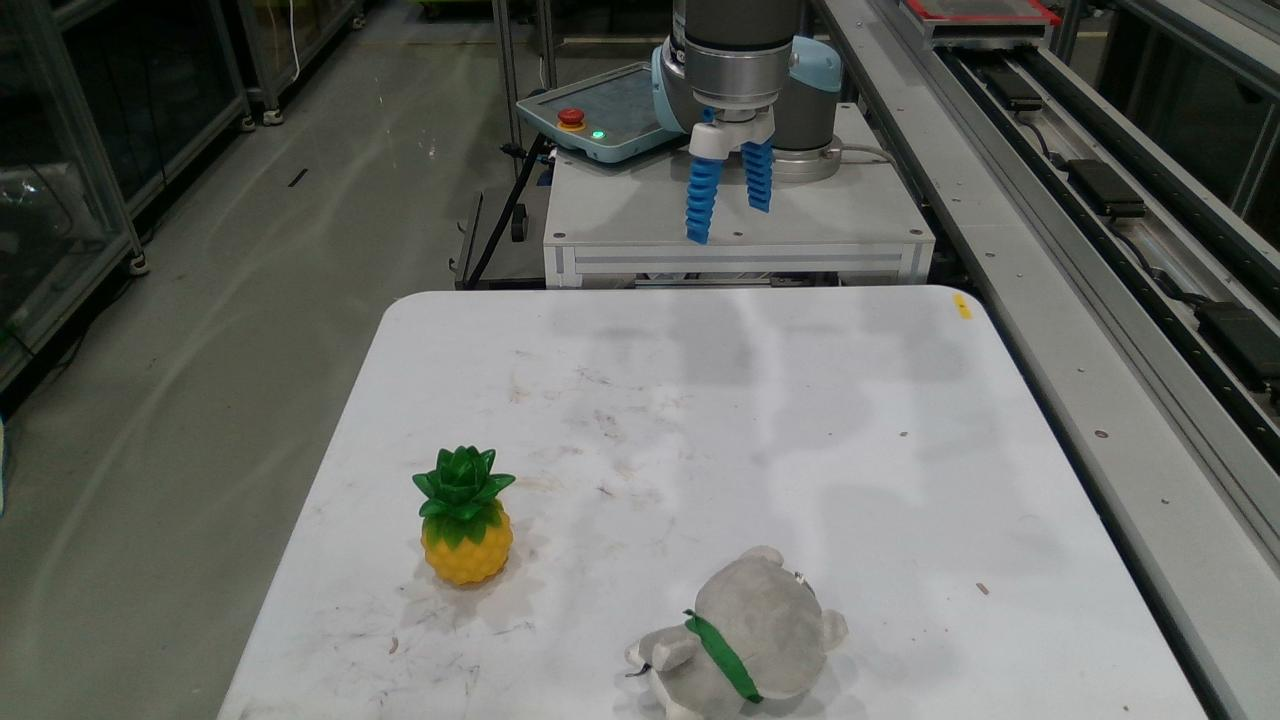UR5: (651, 0, 843, 183)
gripper_left: (686, 157, 724, 245)
gripper_right: (742, 135, 773, 213)
target: (625, 544, 848, 719), (411, 444, 515, 586)
